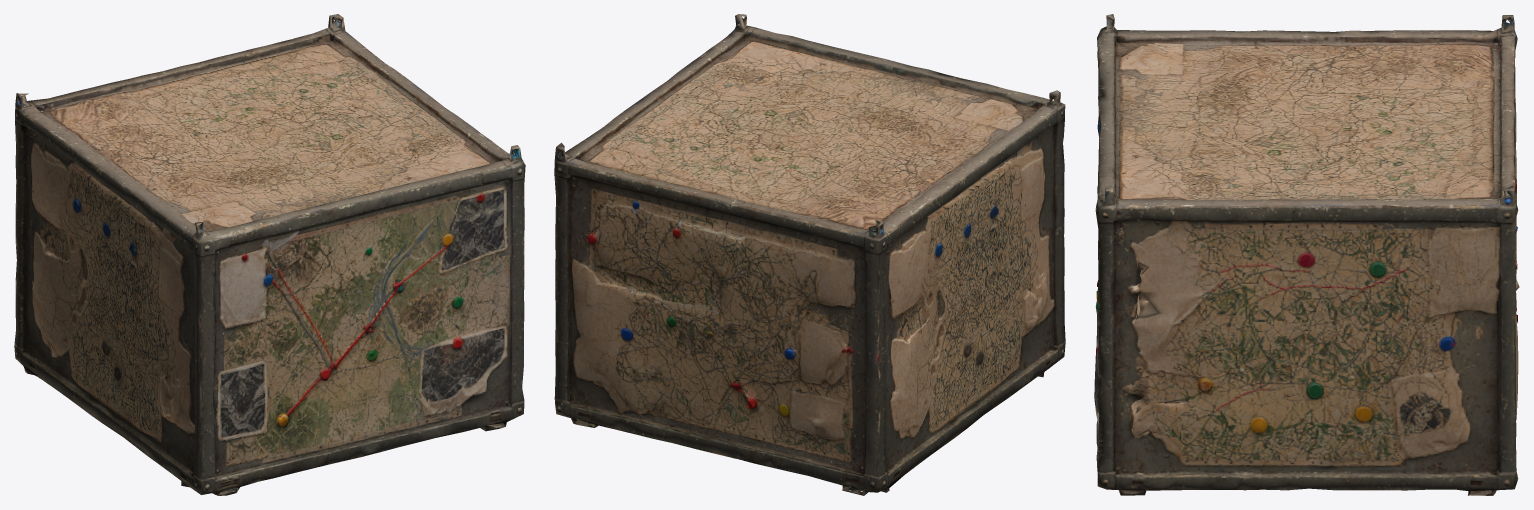
File: BKI_MapBoard.fbx
The picture shows the model from 3 angles, left to right: view 1: azimuth 30°, elevation 25°; view 2: azimuth 150°, elevation 25°; view 3: azimuth 270°, elevation 25°; orthographic projection. The views are drawn at different scales.
Parts seen in each view (by area): view 1: texture_mapping; view 2: texture_mapping; view 3: texture_mapping.
Boxes of the visible parts, x1,y1,x2,y2 form: texture_mapping: (14, 14, 525, 495); texture_mapping: (554, 14, 1065, 495); texture_mapping: (1094, 14, 1519, 495).
Size of the model in its own units: 0.9964 by 0.9952 by 0.7964.
1 material, 1 textured.
